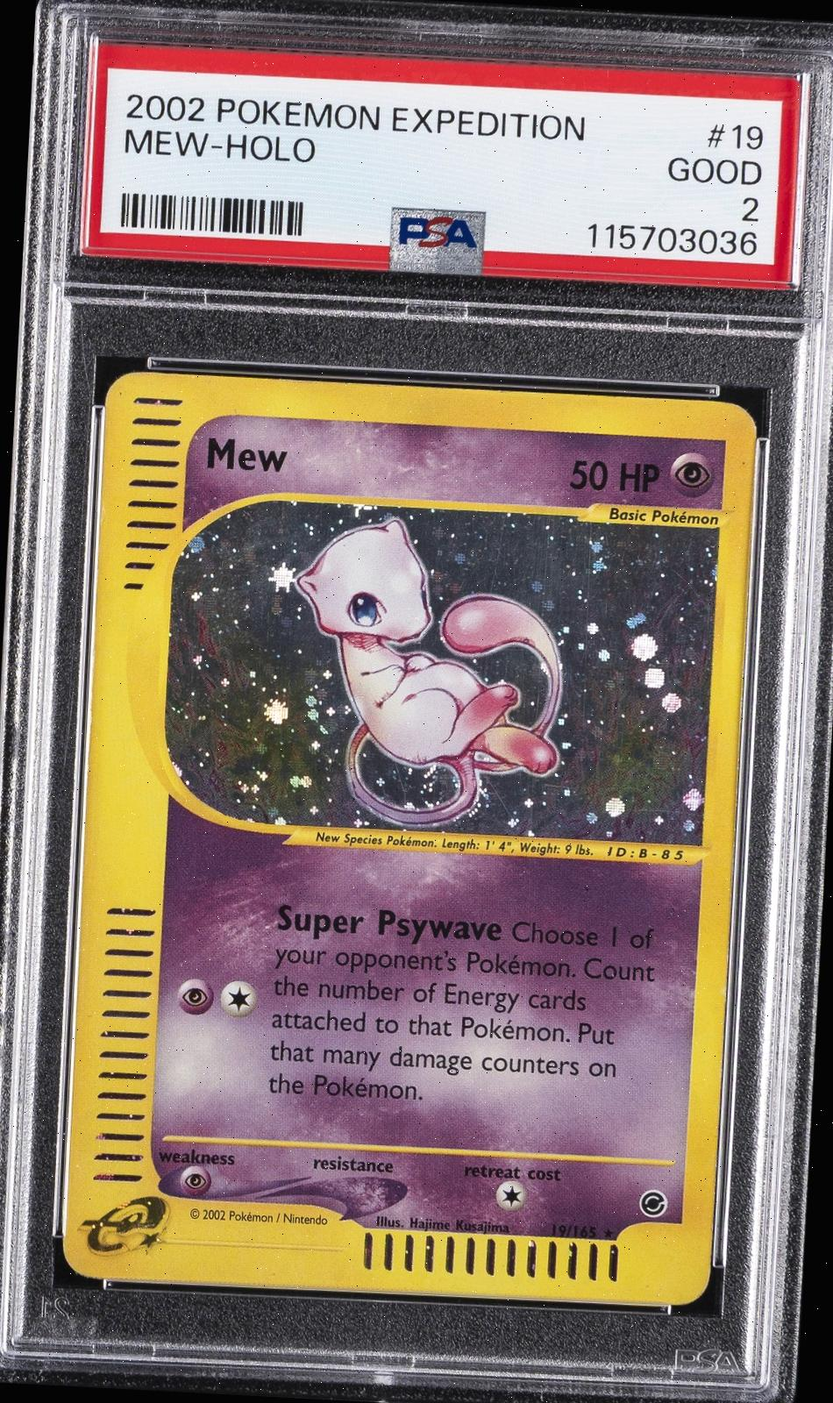card-2UtV: (62, 370, 757, 1306)
